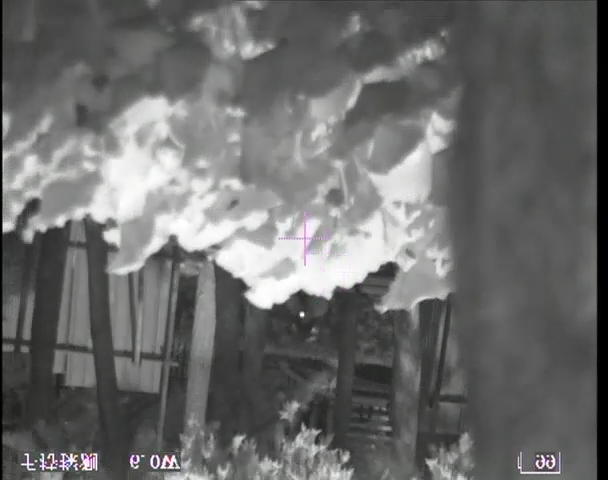my: (298, 310, 307, 319)
